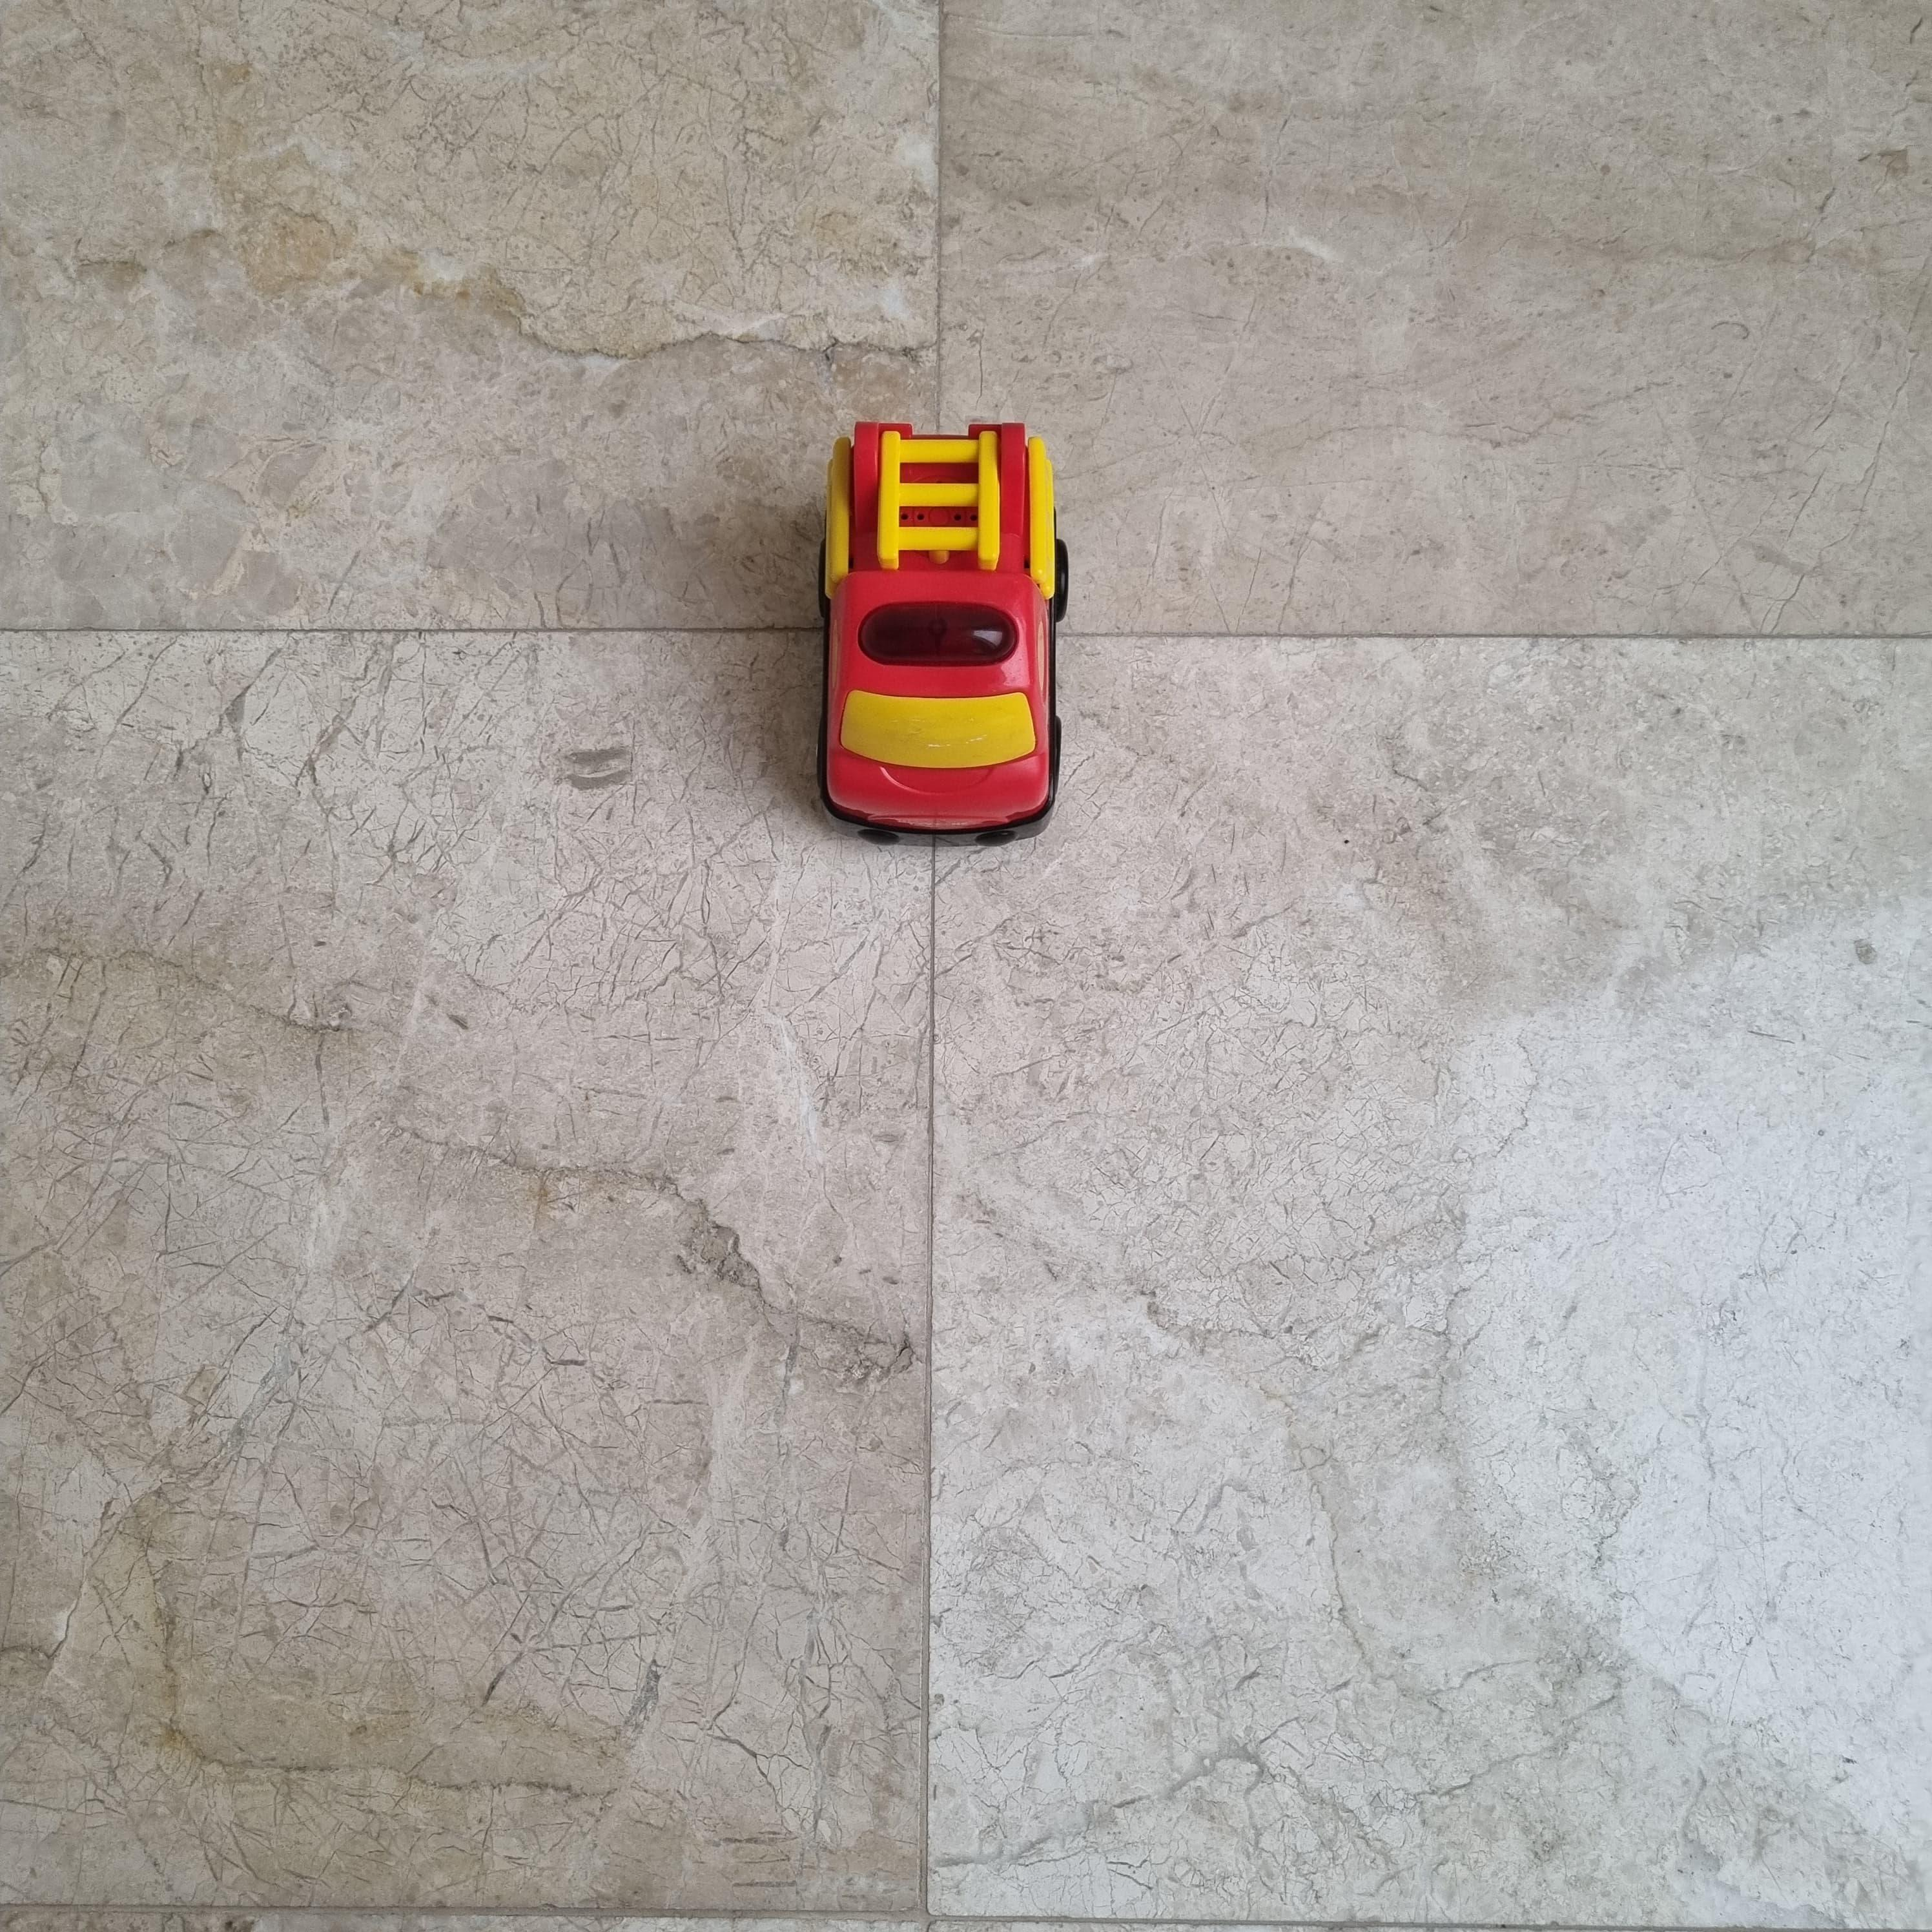firetruck_off: (816, 426, 1065, 853)
